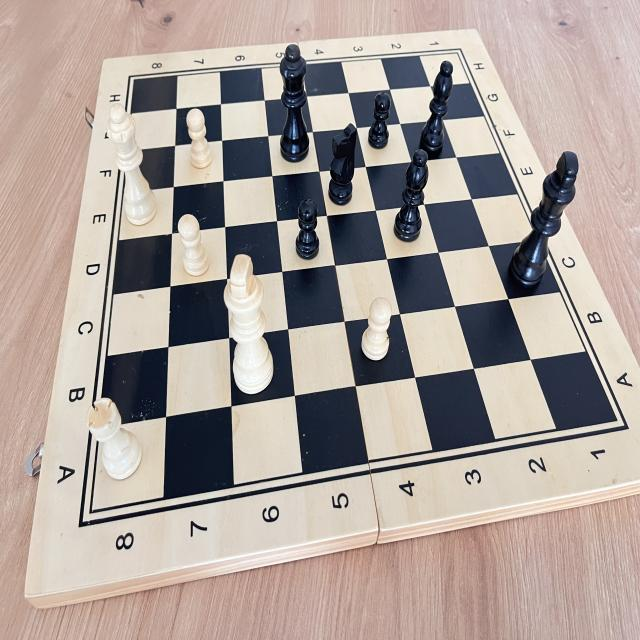black-bishop: (411, 53, 458, 158), (390, 142, 432, 249)
black-king: (501, 147, 587, 302)
black-knight: (317, 112, 362, 209)
black-pawn: (290, 192, 325, 266), (363, 85, 398, 153)
black-queen: (270, 36, 321, 170)
white-king: (217, 250, 280, 400)
white-pawn: (172, 208, 214, 281), (358, 291, 396, 363), (184, 105, 219, 177)
white-queen: (105, 99, 162, 230)
white-rook: (80, 390, 148, 489)
